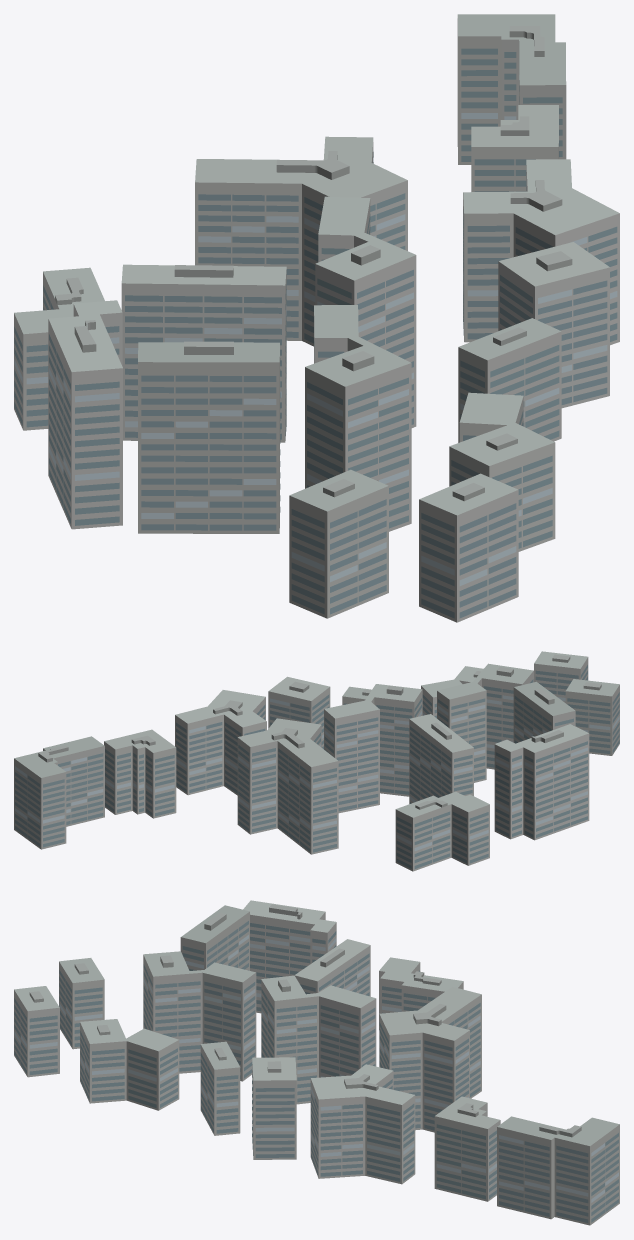
The model's file is apt-a10026470.glb.
3 views of the same model, one above another, from view 1: azimuth 30°, elevation 25°; view 2: azimuth 150°, elevation 25°; view 3: azimuth 270°, elevation 25° (orthographic). The views are drawn at different scales.
Parts seen in each view (by area): view 1: apt-a10026470; view 2: apt-a10026470; view 3: apt-a10026470.
Part boxes in pixels (x1,y1,x2,y2): apt-a10026470: (14, 14, 619, 622); apt-a10026470: (14, 651, 619, 871); apt-a10026470: (14, 900, 619, 1225).
Size of the model in its own units: 212 by 48 by 238.
